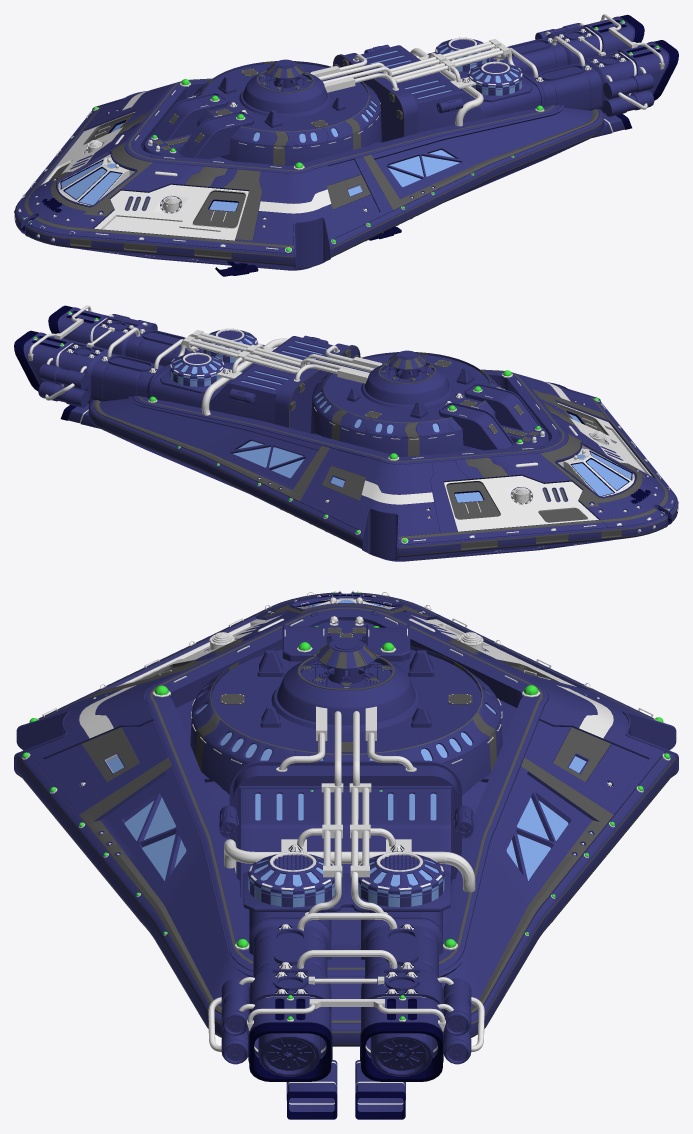
Rendered from Spaceship.fbx.
3 views of the same model, one above another, from view 1: azimuth 30°, elevation 25°; view 2: azimuth 150°, elevation 25°; view 3: azimuth 270°, elevation 25° (orthographic). The views are drawn at different scales.
Visible parts, largest first — view 1: Ship; view 2: Ship; view 3: Ship.
Part boxes in pixels (left/top/right/bottom): Ship: left=14, top=14, right=678, bottom=276; Ship: left=14, top=305, right=678, bottom=561; Ship: left=14, top=590, right=678, bottom=1119.
Bounding box in the file's own units: 6121 × 1402 × 3433.
